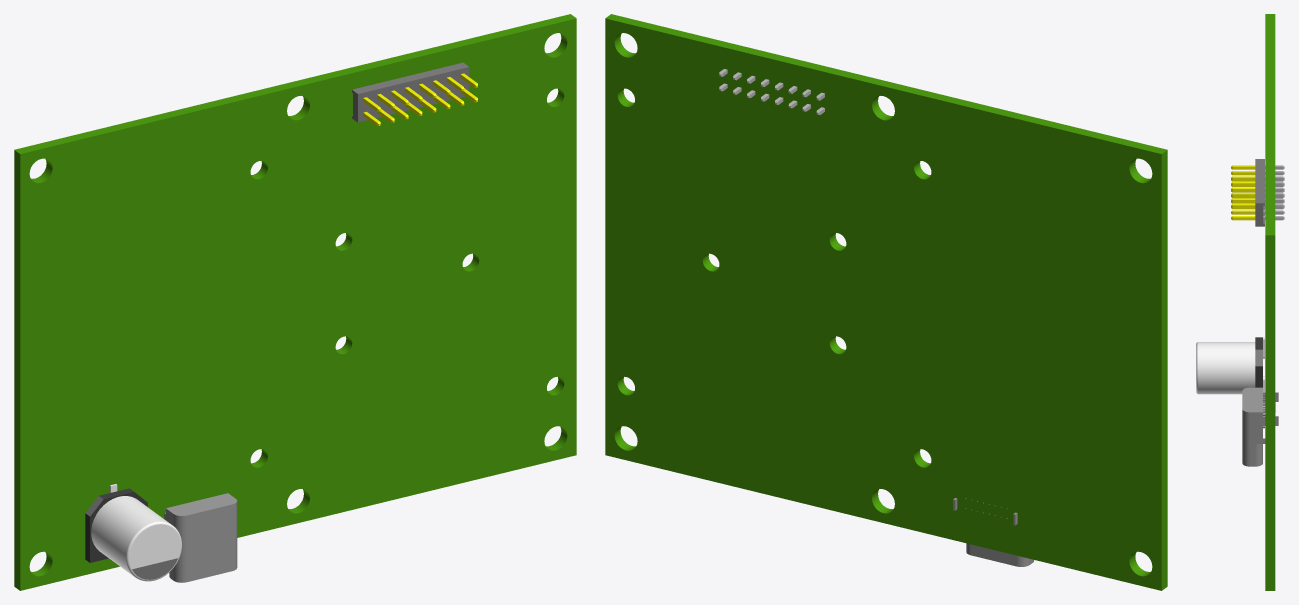
The model's file is IMU_Platform.obj.
3 renders of one model, left to right at view 1: azimuth 30°, elevation 25°; view 2: azimuth 150°, elevation 25°; view 3: azimuth 270°, elevation 25°, orthographic. The views are drawn at different scales.
Visible parts, largest first — view 1: ボディ1:5, ボディ1:4, ボディ1:3, ボディ1, ボディ1:1; view 2: ボディ1:5, ボディ1:3, ボディ1:2; view 3: ボディ1:5, ボディ1:4, ボディ1:3, ボディ1:1, ボディ1, ボディ1:2.
Boxes of the visible parts, x1,y1,x2,y2 form: ボディ1:5: (14,14,576,590); ボディ1:4: (85,484,181,581); ボディ1:3: (164,493,237,582); ボディ1: (352,62,469,122); ボディ1:1: (363,73,477,126); ボディ1:5: (605,14,1167,590); ボディ1:3: (953,498,1034,566); ボディ1:2: (719,69,824,114); ボディ1:5: (1265,14,1275,590); ボディ1:4: (1196,337,1264,394); ボディ1:3: (1242,387,1278,466); ボディ1:1: (1231,165,1255,220); ボディ1: (1255,159,1264,226); ボディ1:2: (1263,165,1284,220).
Size of the model in its own units: 8 by 6.25 by 1.35.
